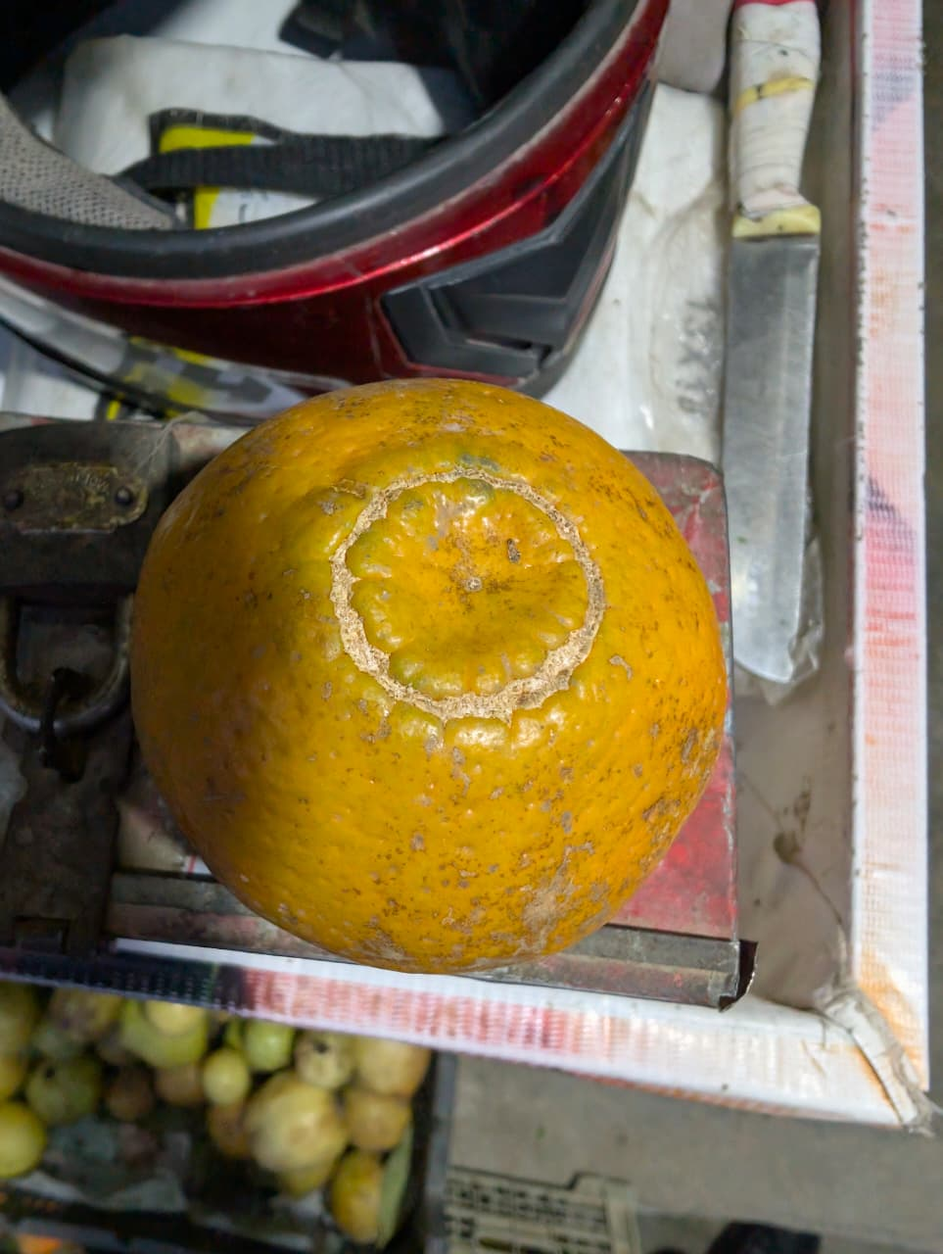orange: (81, 93, 781, 996)
